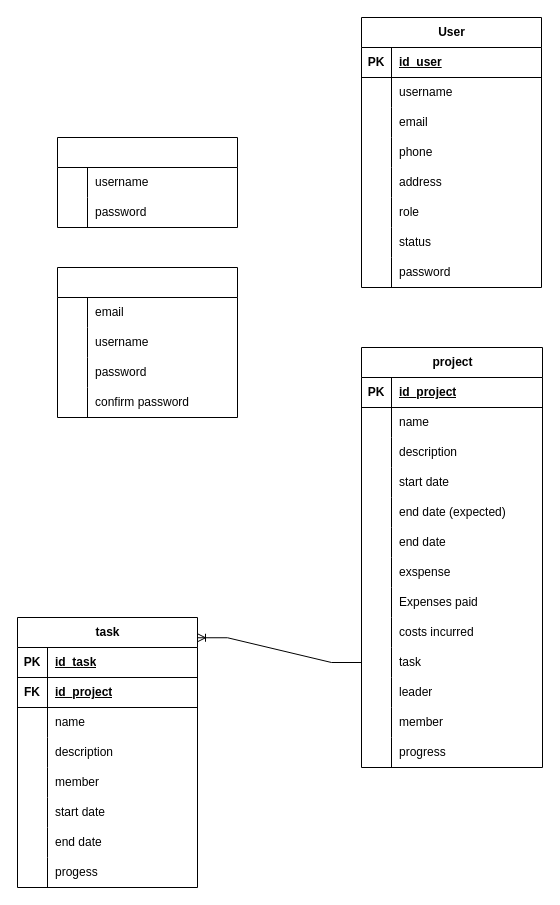
Some shapes in this 560 by 905 pixel diagram are drawn without their labels. Each missing label, with the box of its shape:
Login: (56, 136, 238, 228)
Signup: (56, 266, 238, 418)
